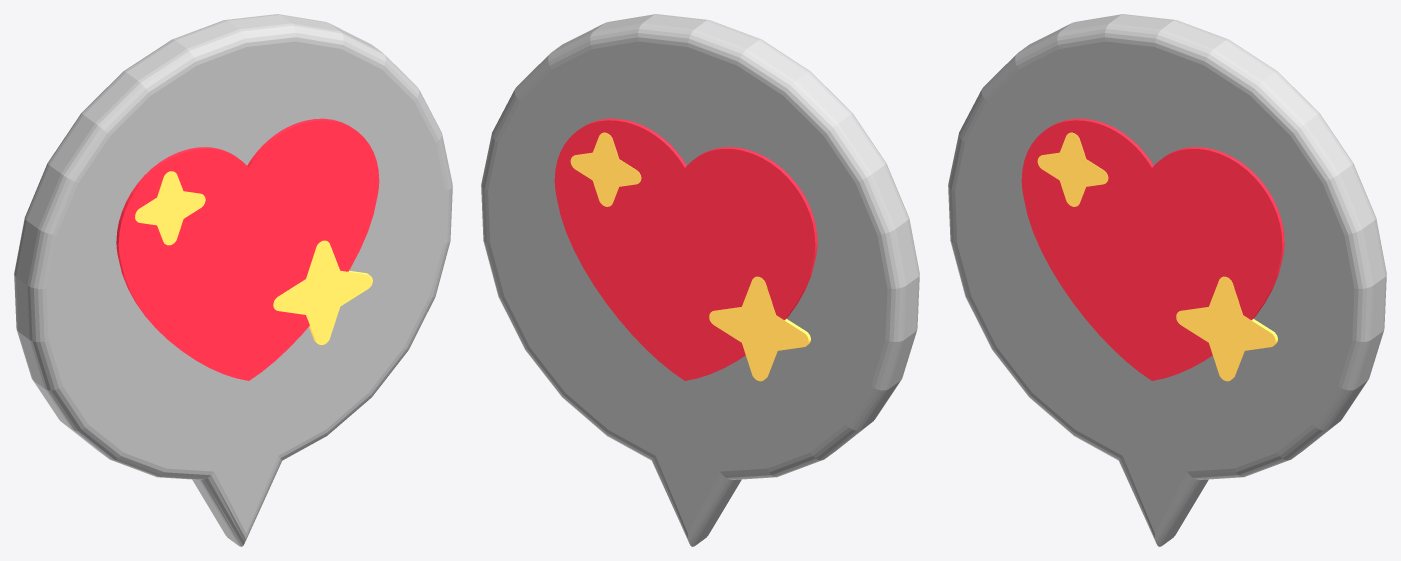
File: sparkling_heart.glb
The picture shows the model from 3 angles, left to right: view 1: azimuth 30°, elevation 25°; view 2: azimuth 150°, elevation 25°; view 3: azimuth 330°, elevation 25°; orthographic projection.
Visible parts, largest first — view 1: EmotionBubble; view 2: EmotionBubble; view 3: EmotionBubble.
Boxes of the visible parts, x1,y1,x2,y2 form: EmotionBubble: (14, 14, 452, 546); EmotionBubble: (481, 14, 919, 546); EmotionBubble: (948, 14, 1386, 546).
Bounding box in the file's own units: 5.29 × 6.16 × 0.682.
